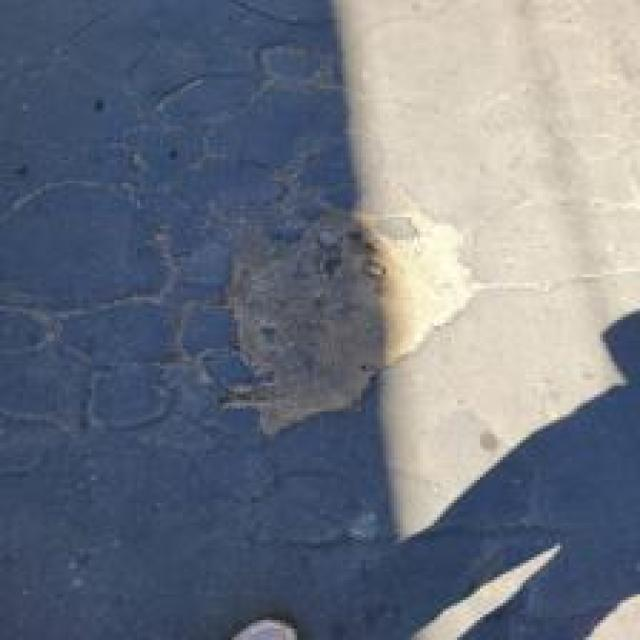BACHE: (230, 209, 467, 431)
PIEL DE COCODRILO: (0, 0, 633, 639), (455, 0, 639, 304)
